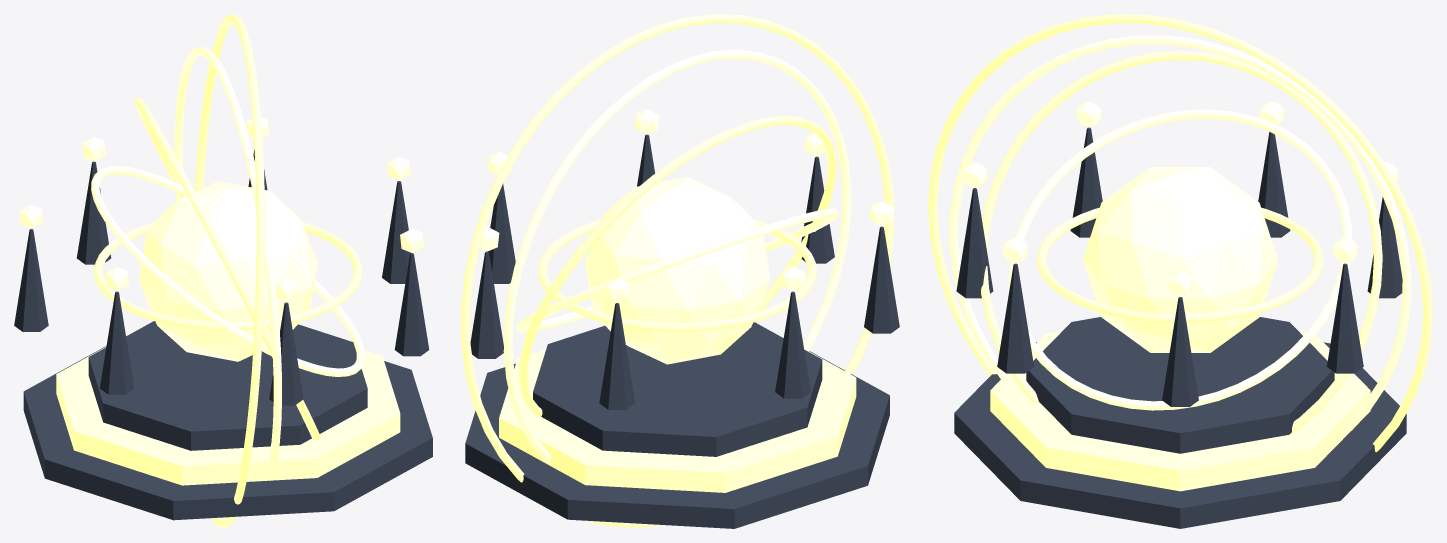
The model's file is gpu-blender-v57.glb.
3 renders of one model, left to right at view 1: azimuth 30°, elevation 25°; view 2: azimuth 150°, elevation 25°; view 3: azimuth 270°, elevation 25°, orthographic. The views are drawn at different scales.
Visible parts, largest first — view 1: Cylinder.002, Cylinder, SovereignCore_audiocipher-stego-engine, Cylinder.001, Torus.004, Torus.003, Torus.001, Torus, Torus.002, Cone.006, Cone.004, Cone.003 (+3 smaller); view 2: Cylinder.002, SovereignCore_audiocipher-stego-engine, Cylinder, Cylinder.001, Torus.004, Torus.003, Torus.002, Torus.001, Torus, Cone.004, Cone.003, Cone.002 (+4 smaller); view 3: SovereignCore_audiocipher-stego-engine, Cylinder.002, Cylinder, Cylinder.001, Torus.004, Torus.003, Torus.002, Torus.001, Torus, Cone.001, Cone.006, Cone (+4 smaller).
Part boxes in pixels (x1,y1,x2,y2): Cylinder.002: (88, 321, 367, 450); Cylinder: (23, 346, 432, 520); SovereignCore_audiocipher-stego-engine: (139, 181, 317, 361); Cylinder.001: (56, 328, 400, 485); Torus.004: (195, 14, 265, 528); Torus.003: (174, 46, 281, 480); Torus.001: (91, 166, 365, 376); Torus: (94, 222, 362, 330); Torus.002: (135, 97, 320, 440); Cone.006: (394, 253, 429, 356); Cone.004: (100, 291, 134, 394); Cone.003: (14, 229, 48, 331); Cylinder.002: (533, 322, 822, 456); SovereignCore_audiocipher-stego-engine: (585, 177, 770, 364); Cylinder: (465, 351, 889, 528); Cylinder.001: (499, 330, 856, 492); Torus.004: (461, 14, 894, 527); Torus.003: (503, 49, 851, 463); Torus.002: (518, 116, 836, 417); Torus.001: (516, 208, 838, 332); Torus: (538, 219, 816, 332); Cone.004: (864, 226, 899, 333); Cone.003: (775, 291, 810, 398); Cone.002: (599, 303, 634, 409); SovereignCore_audiocipher-stego-engine: (1083, 167, 1277, 352); Cylinder.002: (1026, 317, 1334, 453); Cylinder: (954, 342, 1406, 528); Cylinder.001: (990, 330, 1370, 491); Torus.004: (928, 14, 1432, 452); Torus.003: (949, 35, 1411, 434); Torus.002: (981, 50, 1382, 433); Torus.001: (1008, 109, 1352, 410); Torus: (1037, 207, 1323, 322); Cone.001: (1327, 263, 1363, 373); Cone.006: (997, 263, 1033, 373); Cone: (1162, 297, 1198, 406).
Size of the model in its own units: 4.41 by 5.33 by 4.9.
